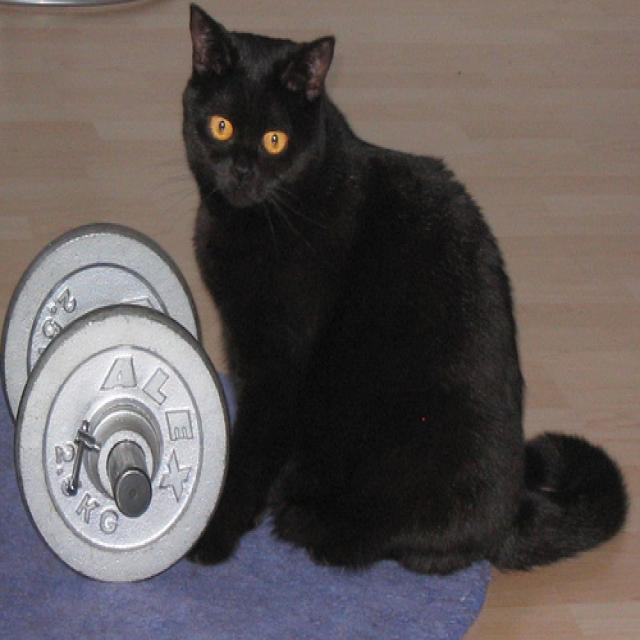left eye: (261, 126, 288, 154)
